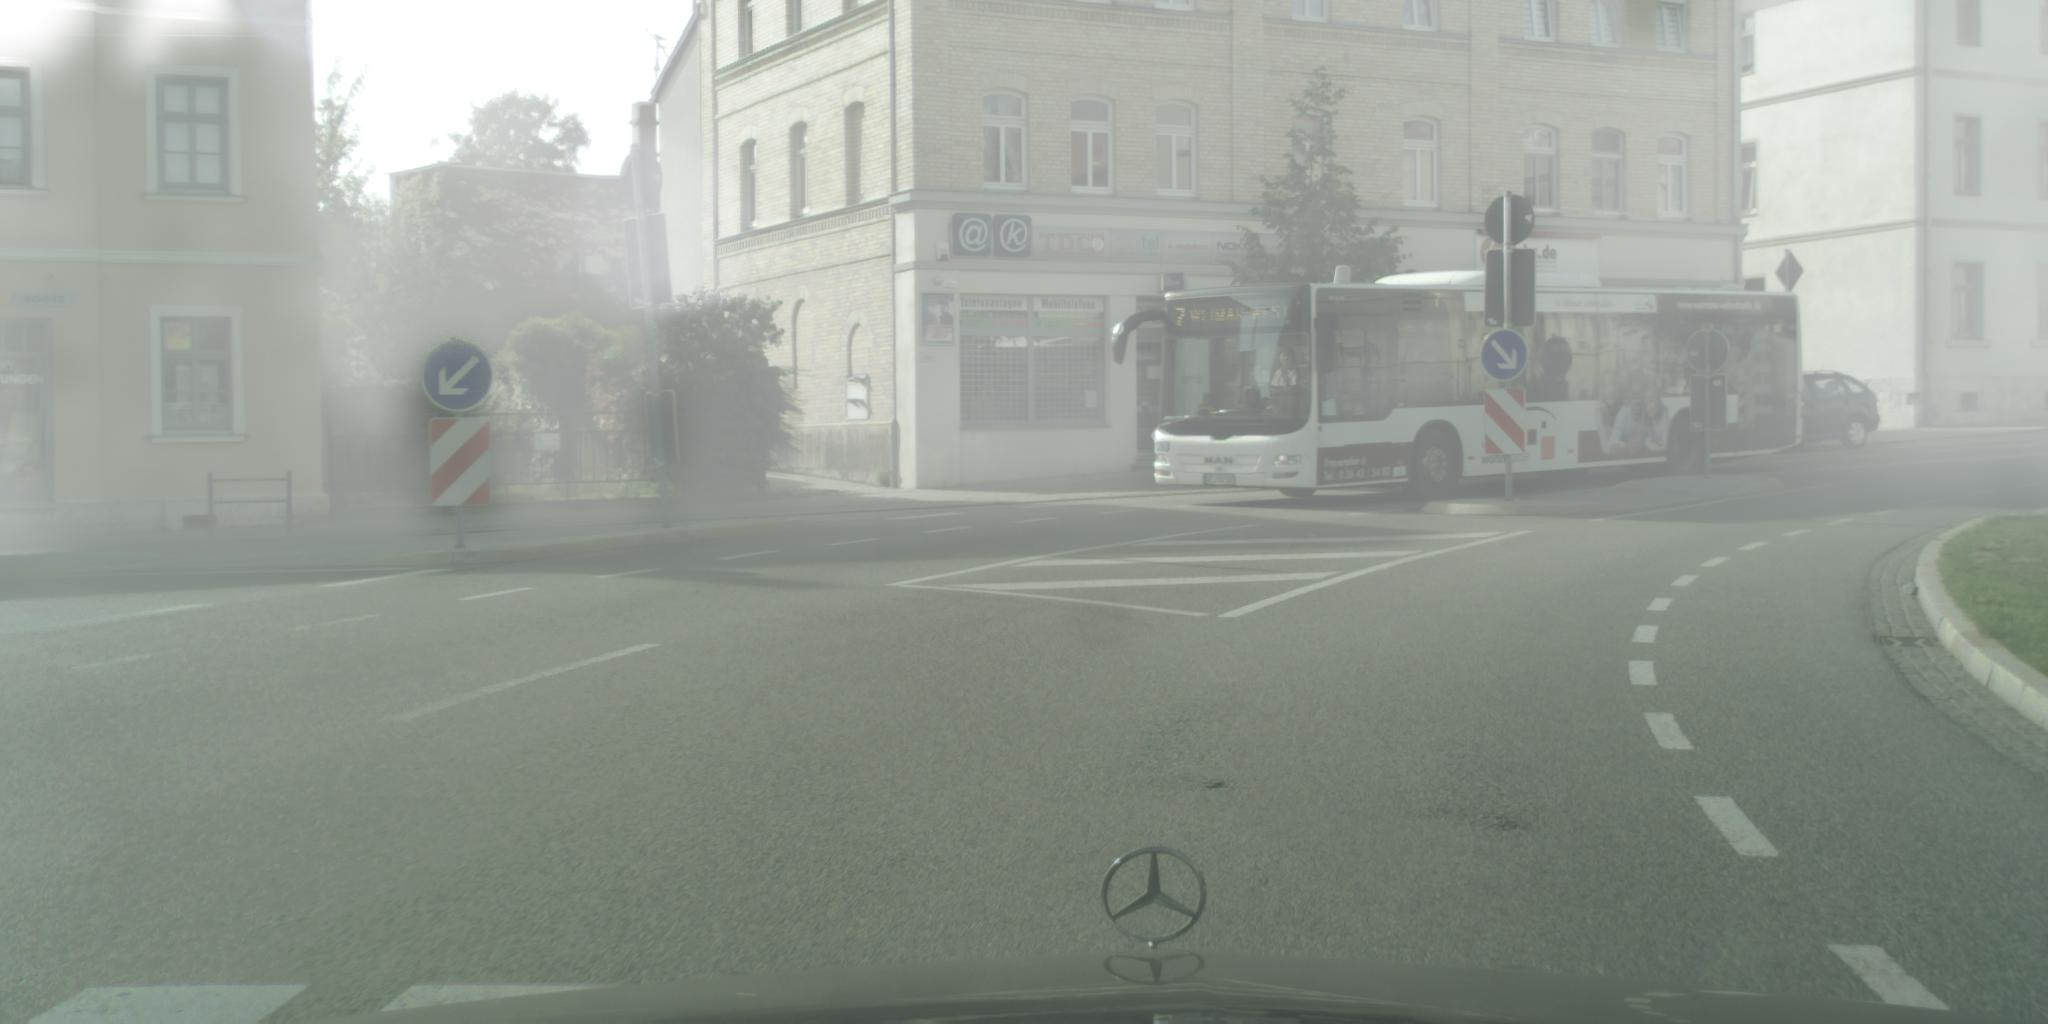bus: (1112, 266, 1806, 502)
car: (1789, 374, 1881, 451)
